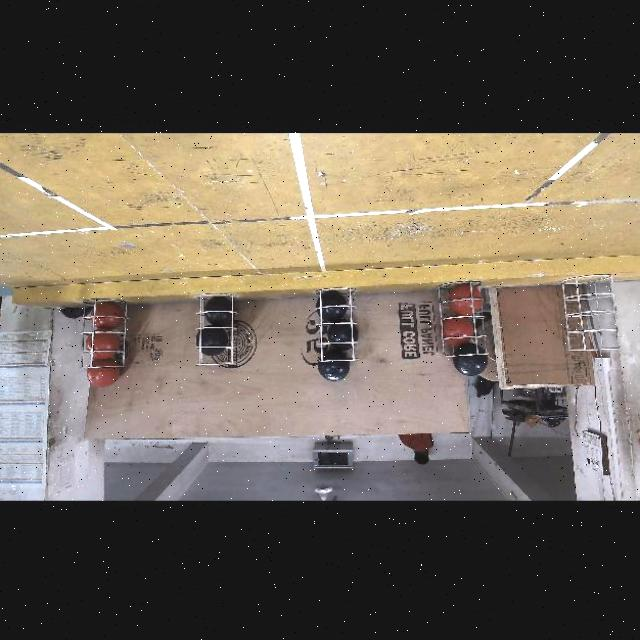P: (453, 342, 487, 377), (317, 349, 351, 381), (206, 298, 234, 326), (317, 292, 345, 318), (330, 322, 358, 348), (198, 328, 226, 354)
R: (86, 330, 120, 358), (86, 359, 119, 387), (448, 286, 480, 314), (91, 304, 123, 328), (442, 318, 472, 342)
S: (560, 276, 622, 358), (433, 278, 492, 360), (80, 290, 136, 370), (310, 284, 364, 366), (196, 292, 238, 371)
